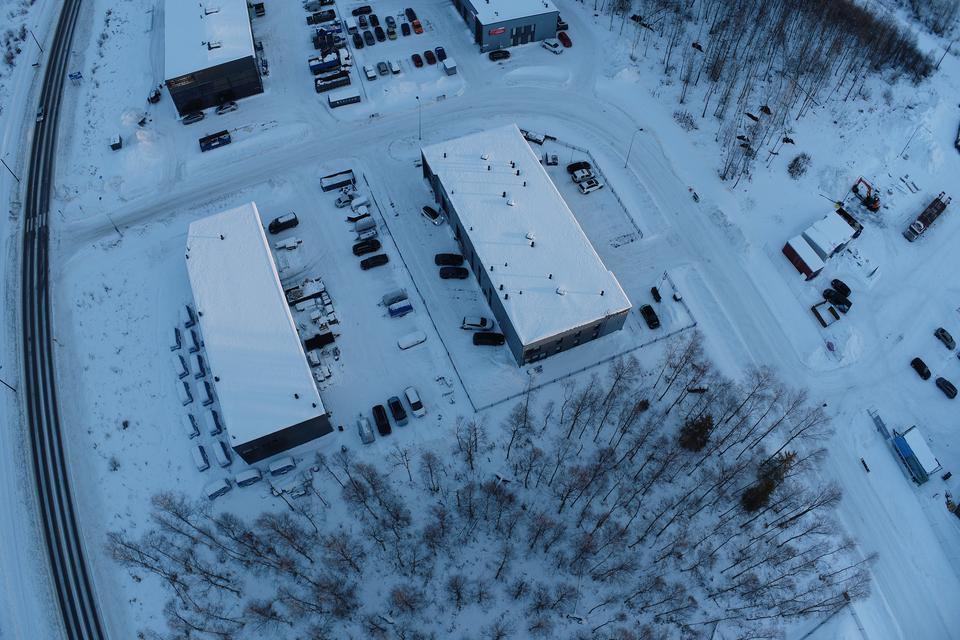intersection: (0, 196, 127, 300)
